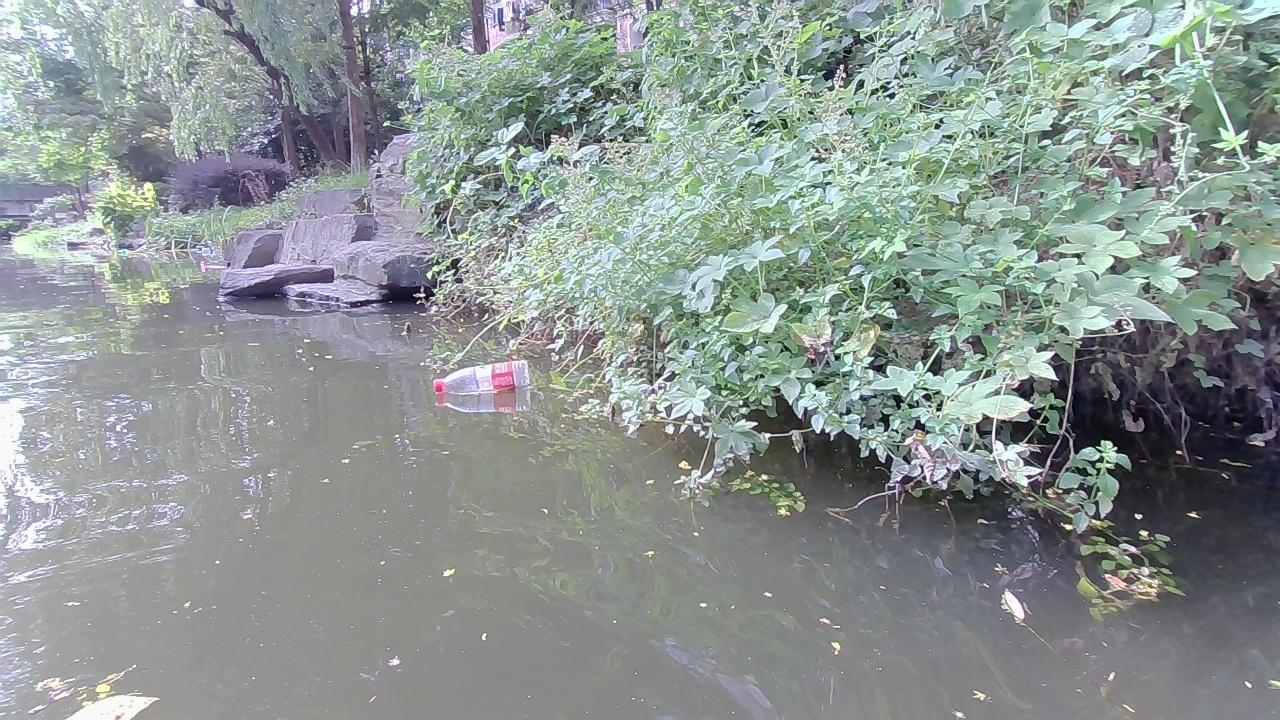bottle: (434, 364, 529, 398)
